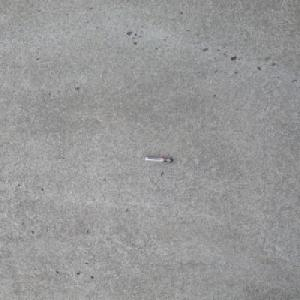Battery: (144, 157, 173, 162)
